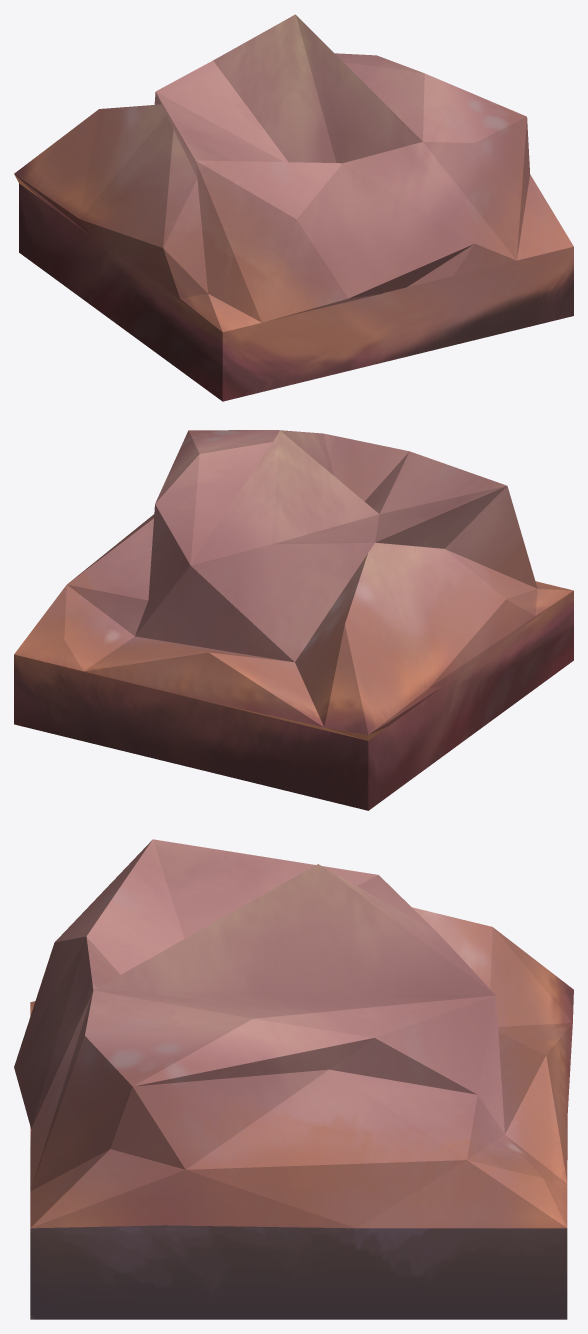
Rendered from mountain.obj.
The picture shows the model from 3 angles, top to bottom: view 1: azimuth 30°, elevation 25°; view 2: azimuth 150°, elevation 25°; view 3: azimuth 270°, elevation 25°; orthographic projection. The views are drawn at different scales.
Visible parts, largest first — view 1: ground_ground_Cube; view 2: ground_ground_Cube; view 3: ground_ground_Cube.
Boxes of the visible parts, left/top/right/bottom form: ground_ground_Cube: left=14, top=14, right=573, bottom=401; ground_ground_Cube: left=14, top=430, right=573, bottom=810; ground_ground_Cube: left=14, top=839, right=573, bottom=1319.
Bounding box in the file's own units: 7.62 × 5.41 × 7.91.
